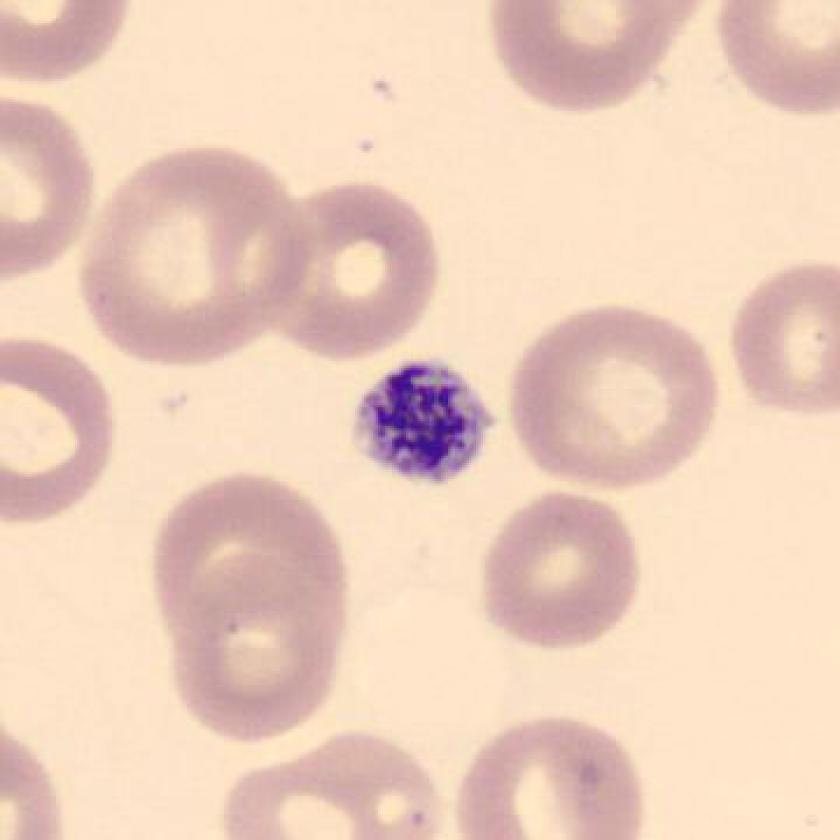platelets: (342, 351, 512, 497)
